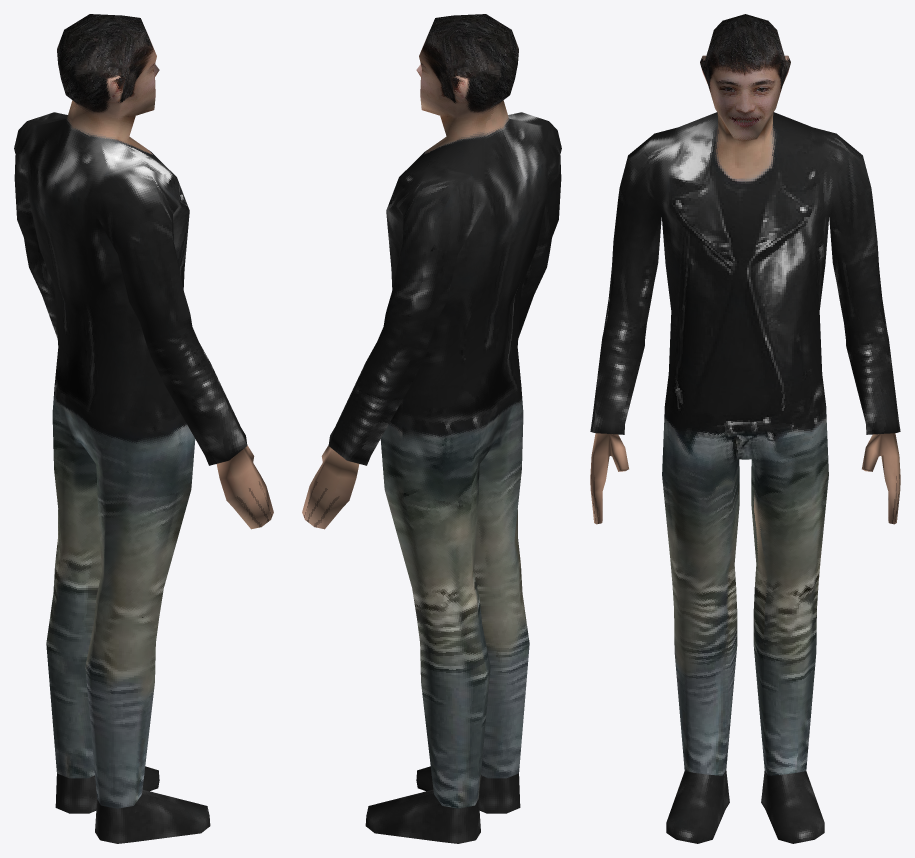
Rendered from somewanker.glb.
3 renders of one model, left to right at view 1: azimuth 30°, elevation 25°; view 2: azimuth 150°, elevation 25°; view 3: azimuth 270°, elevation 25°, orthographic.
Visible parts, largest first — view 1: Character_15; view 2: Character_15; view 3: Character_15.
Part boxes in pixels (x1,y1,x2,y2): Character_15: [14, 14, 273, 843]; Character_15: [302, 14, 561, 843]; Character_15: [590, 14, 900, 843].
Bounding box in the file's own units: 0.9322 × 4.71 × 1.68.
1 material, 1 textured.
